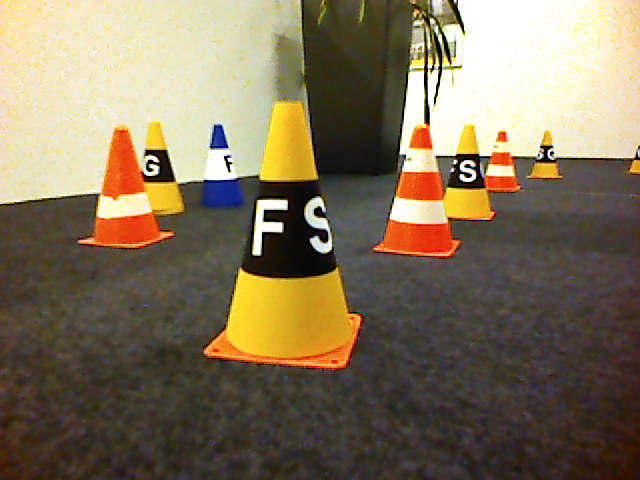orangeconesmall: (371, 125, 459, 259), (484, 131, 523, 192)
yellowcone: (205, 101, 363, 371), (444, 124, 496, 220), (147, 120, 186, 215), (526, 131, 562, 180)
